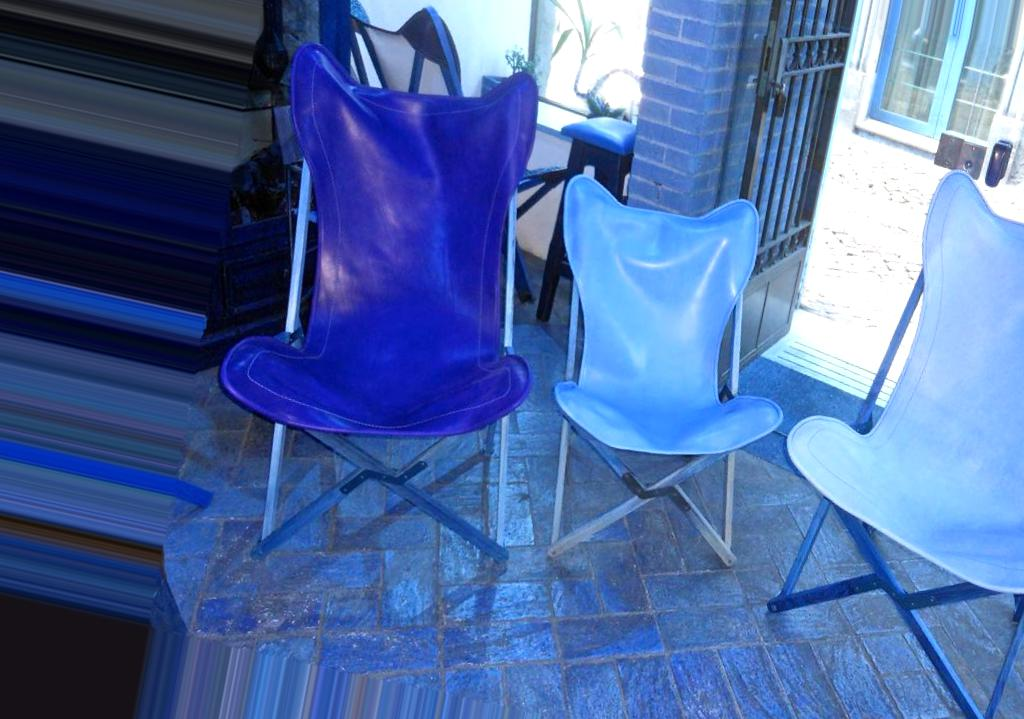chair: (219, 41, 540, 565)
